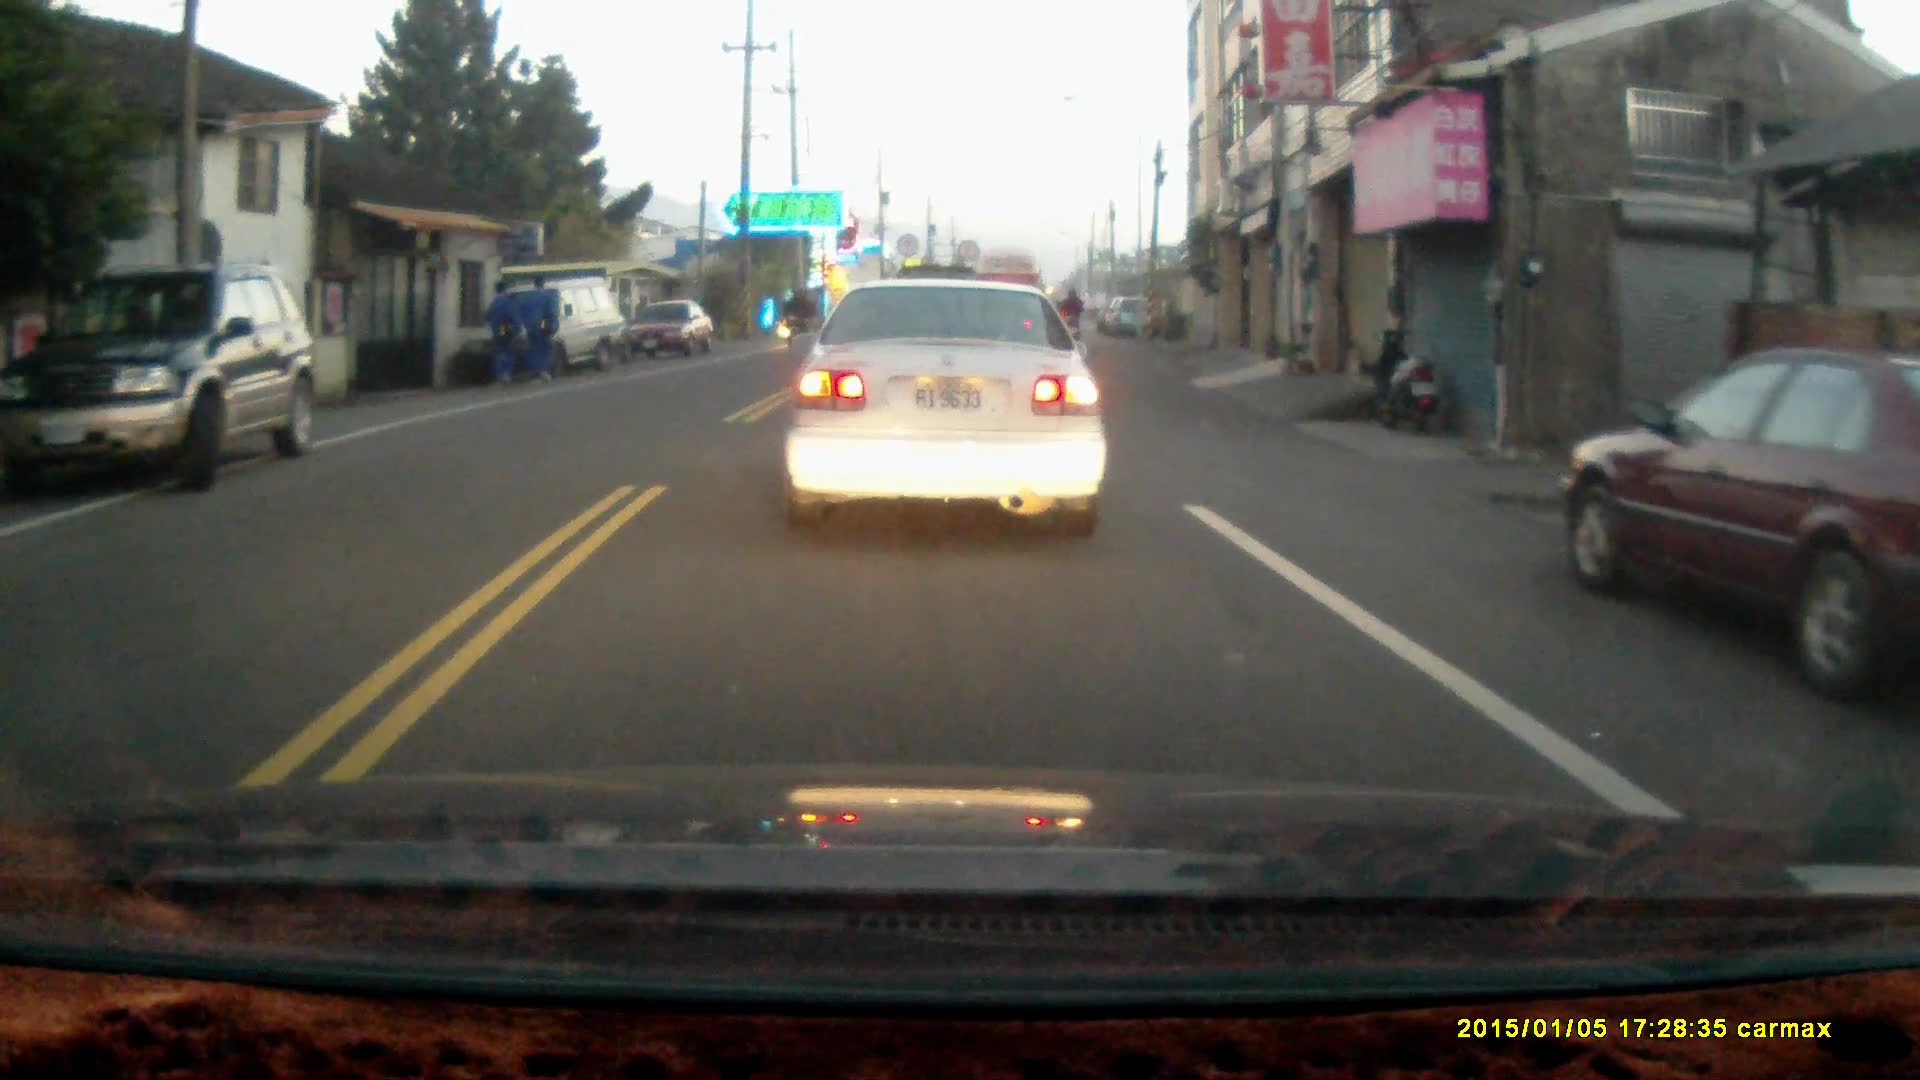pedestrian: (484, 274, 522, 392), (523, 267, 558, 384)
rider: (781, 284, 815, 343)
vehicle: (1573, 344, 1920, 708), (783, 270, 1111, 537), (16, 264, 325, 490), (496, 272, 635, 369), (619, 300, 716, 363)
